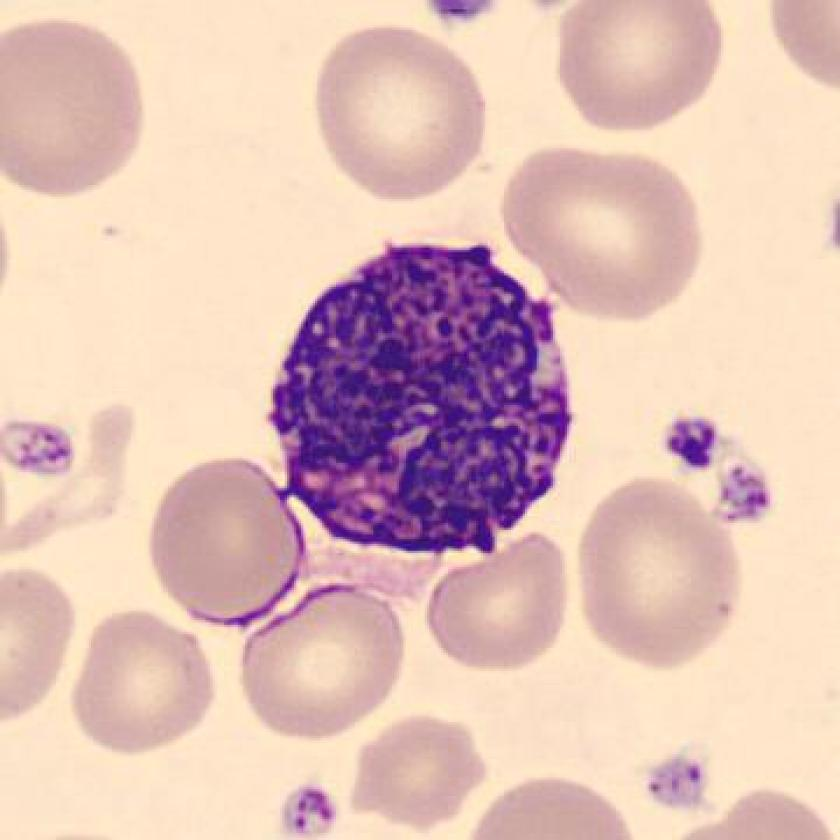basophil: (267, 235, 575, 556)
